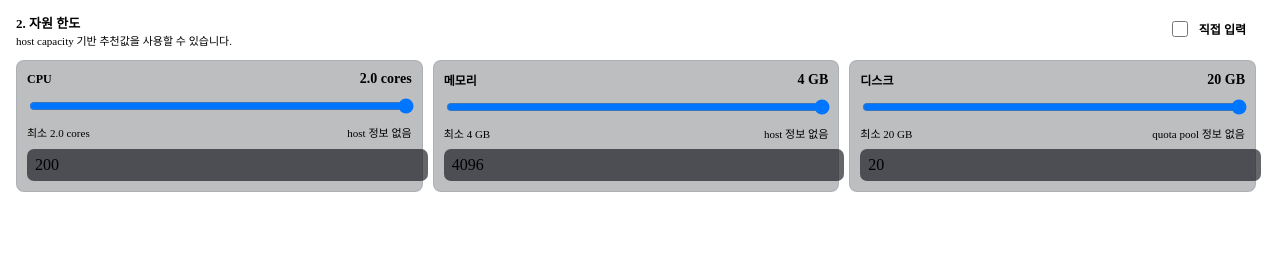
Test: ResourceLimitForm › shows warning when direct input goes below template floors
The width and height of the screenshot is (1276, 257).
Set the slider named "cpu-percent" below "CPU" to "100": (37, 106) [29,98,414,114]
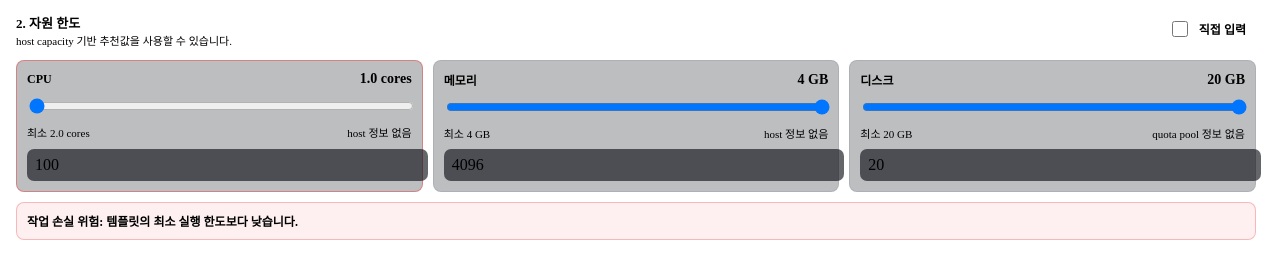
Check: the text "작업 손실 위험: 템플릿의 최소 실행 한도보다 낮습니다." is shown, box [16,202,1256,240]
